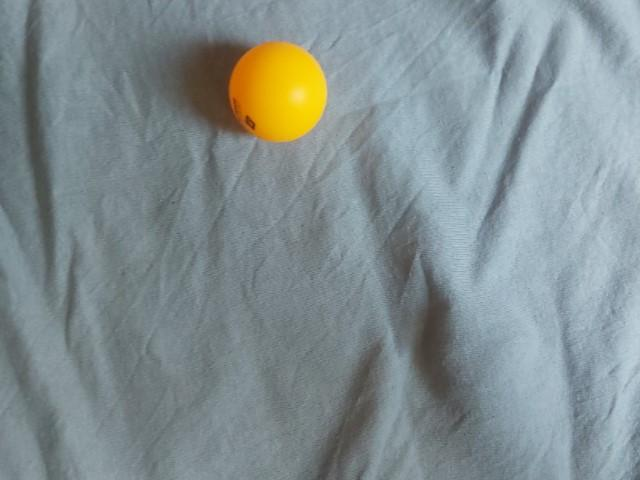oball: (305, 335, 420, 444)
